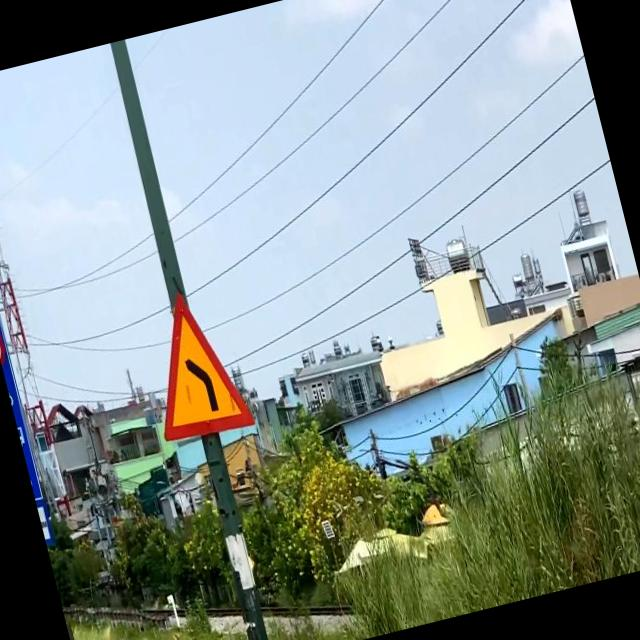W-201a: (133, 282, 255, 446)
